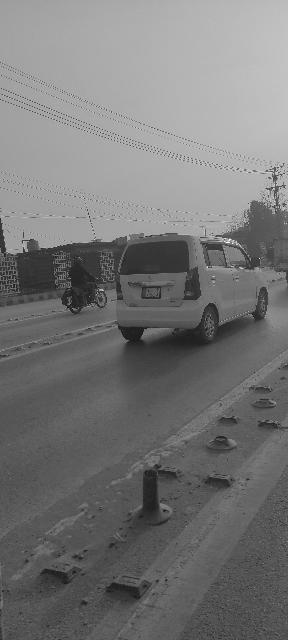Number: (146, 288, 155, 297)
